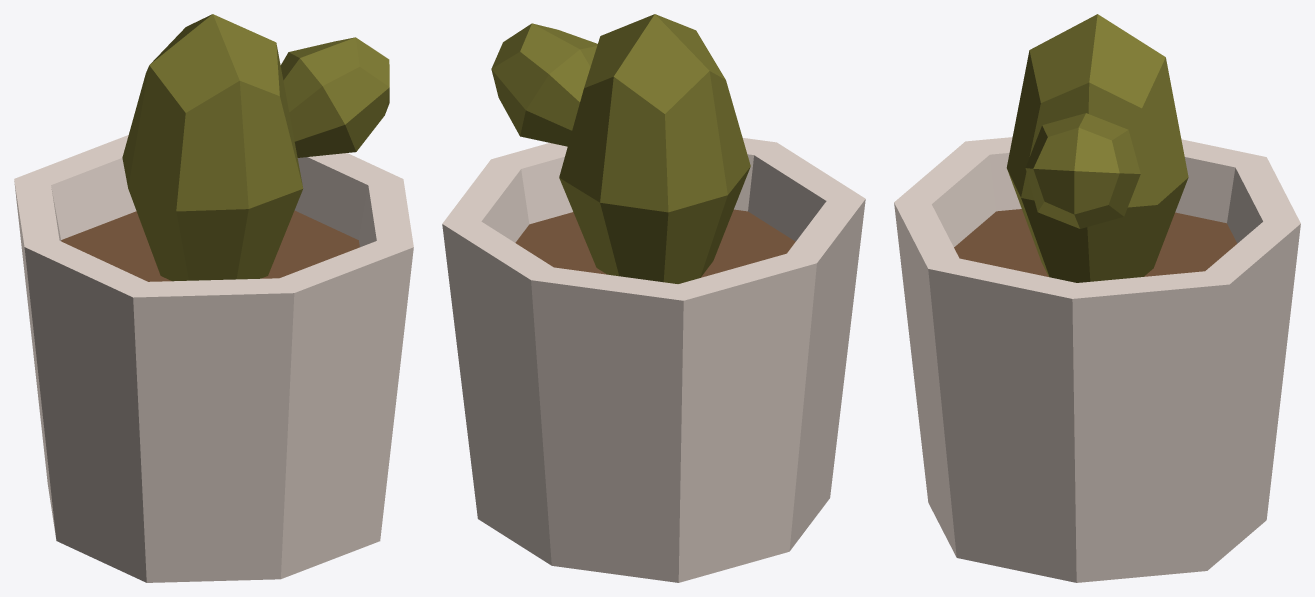
File: Flower_45.fbx
3 views of the same model, side by side, from view 1: azimuth 30°, elevation 25°; view 2: azimuth 150°, elevation 25°; view 3: azimuth 270°, elevation 25° (orthographic).
Visible parts, largest first — view 1: Flower_45; view 2: Flower_45; view 3: Flower_45.
Part boxes in pixels (bbox=[...]): Flower_45: bbox=[14, 14, 413, 582]; Flower_45: bbox=[442, 14, 865, 582]; Flower_45: bbox=[894, 14, 1300, 582].
Bounding box in the file's own units: 15.39 × 15.39 × 20.74.
